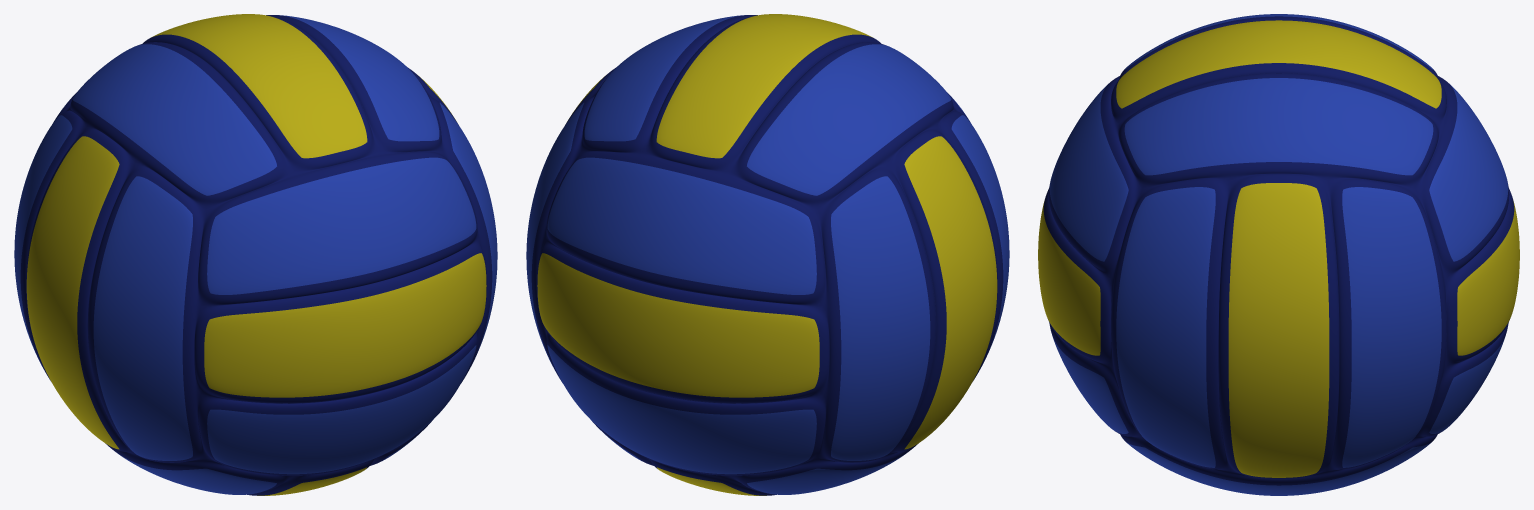
File: volleyball_v2.fbx
3 views of the same model, side by side, from view 1: azimuth 30°, elevation 25°; view 2: azimuth 150°, elevation 25°; view 3: azimuth 270°, elevation 25° (orthographic).
Parts seen in each view (by area): view 1: Cube; view 2: Cube; view 3: Cube.
Boxes of the visible parts, bbox=[...] form: Cube: bbox=[14, 14, 497, 495]; Cube: bbox=[526, 14, 1009, 495]; Cube: bbox=[1038, 14, 1519, 495].
Size of the model in its own units: 0.3 by 0.3 by 0.3.
